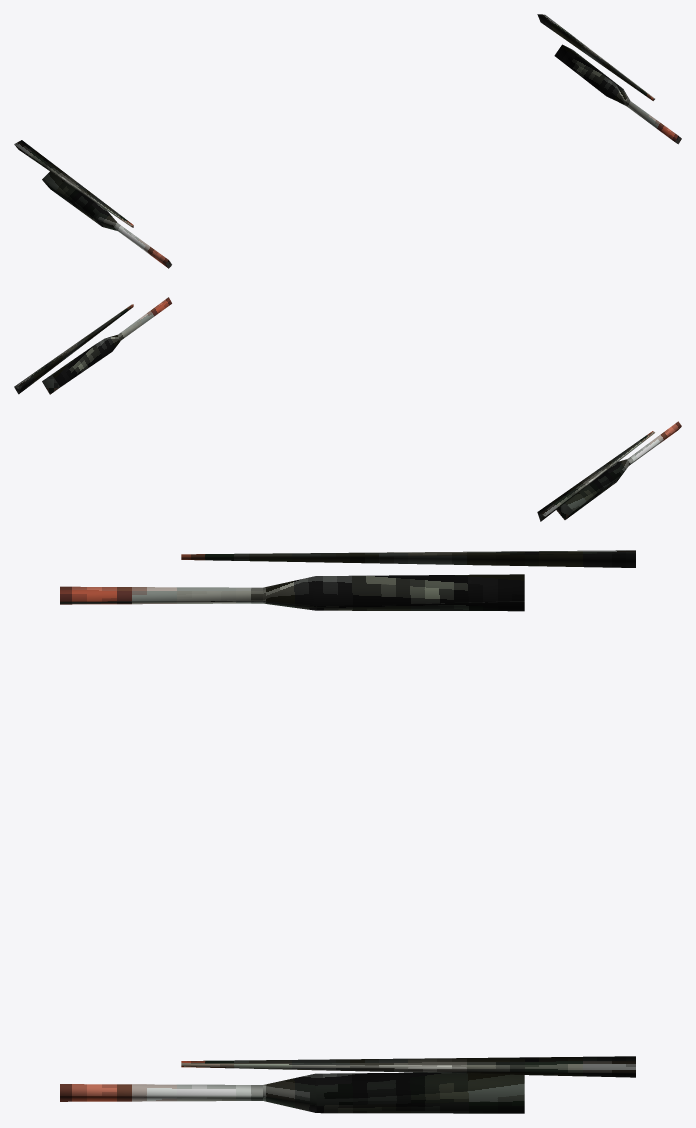
Rendered from awing_weapon_s01_l3.fbx.
3 views of the same model, one above another, from view 1: azimuth 30°, elevation 25°; view 2: azimuth 150°, elevation 25°; view 3: azimuth 270°, elevation 25° (orthographic). The views are drawn at different scales.
Visible parts, largest first — view 1: mesh_node; view 2: mesh_node; view 3: mesh_node.
Part boxes in pixels (bbox=[...]): mesh_node: bbox=[14, 14, 681, 268]; mesh_node: bbox=[14, 297, 681, 521]; mesh_node: bbox=[60, 550, 635, 1113].
Bounding box in the file's own units: 9.05 × 0.4695 × 4.25.
Materials: 1 (1 with a texture image).
